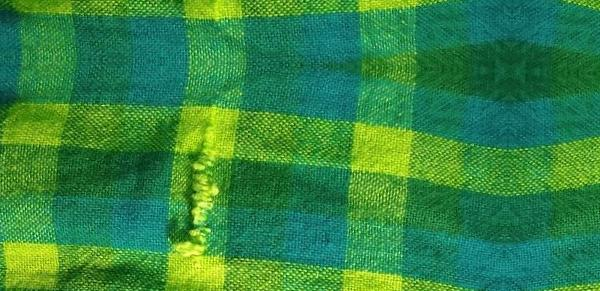knot: (163, 122, 220, 263)
